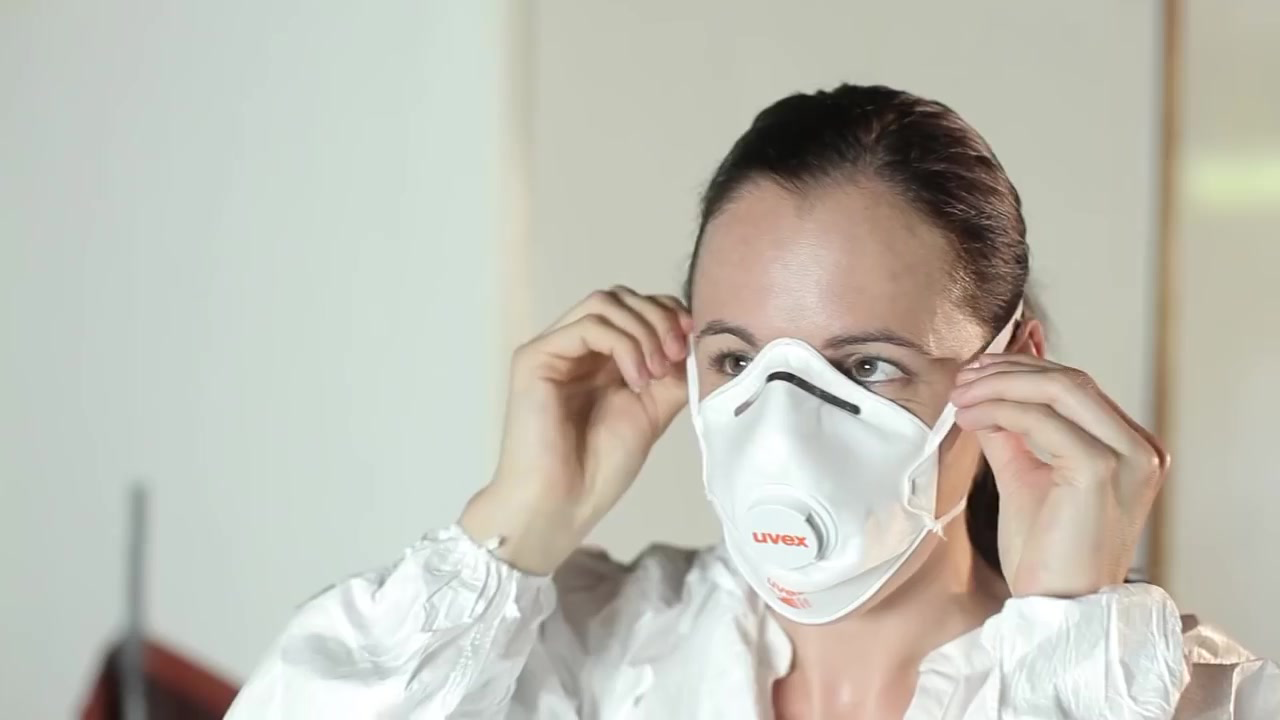Coverall: (244, 566, 1241, 720)
with_mask: (687, 343, 974, 653)
